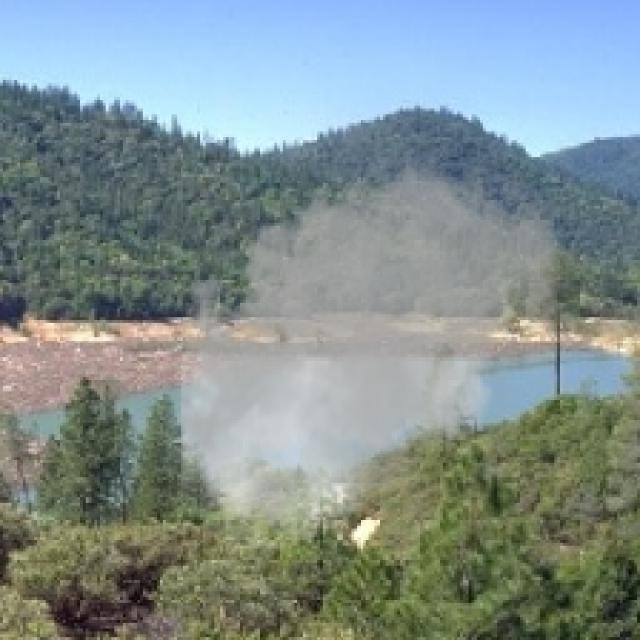Smoke: (162, 142, 568, 548)
